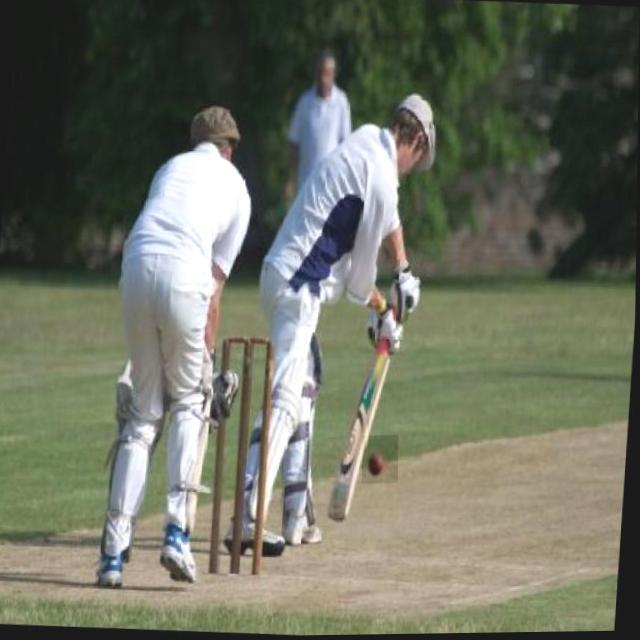-: (363, 436, 400, 484)
